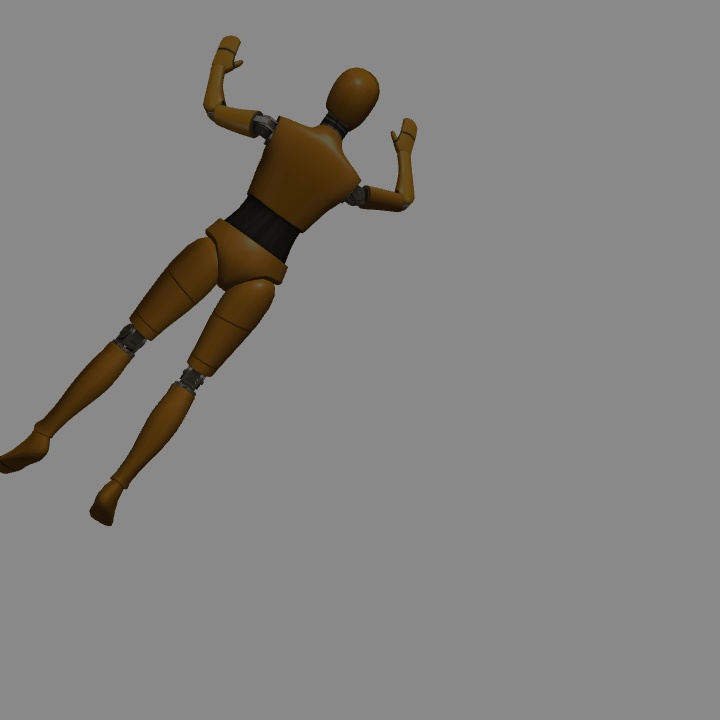victim: (3, 62, 418, 524)
